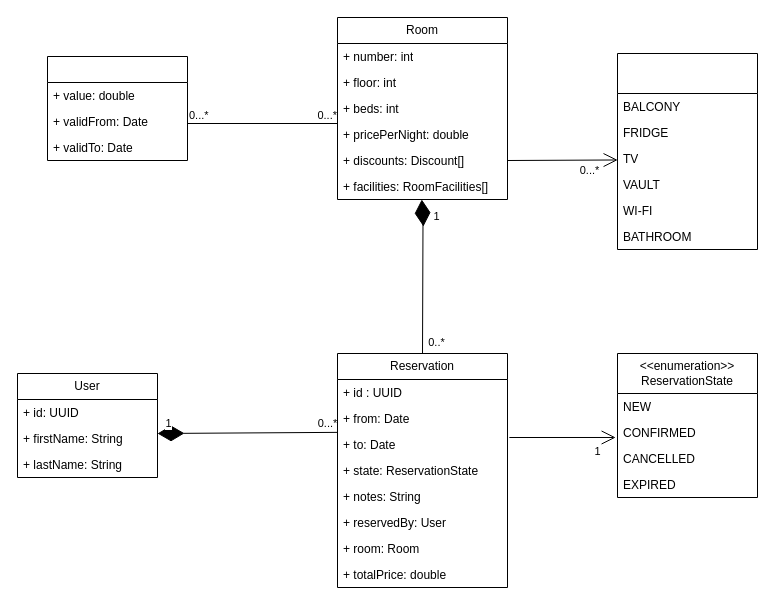
The diagram is 775 pixels wide and 608 high, and some of its shapes have lost their labels. The box of each missing label's shape, as (x1, y1, x2, y2) in pixels:
<<enumeration>> RoomFacilities: (616, 52, 758, 250)
Discount: (46, 56, 188, 160)
